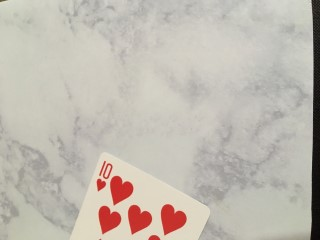TenOfHearts: (68, 152, 208, 240)
